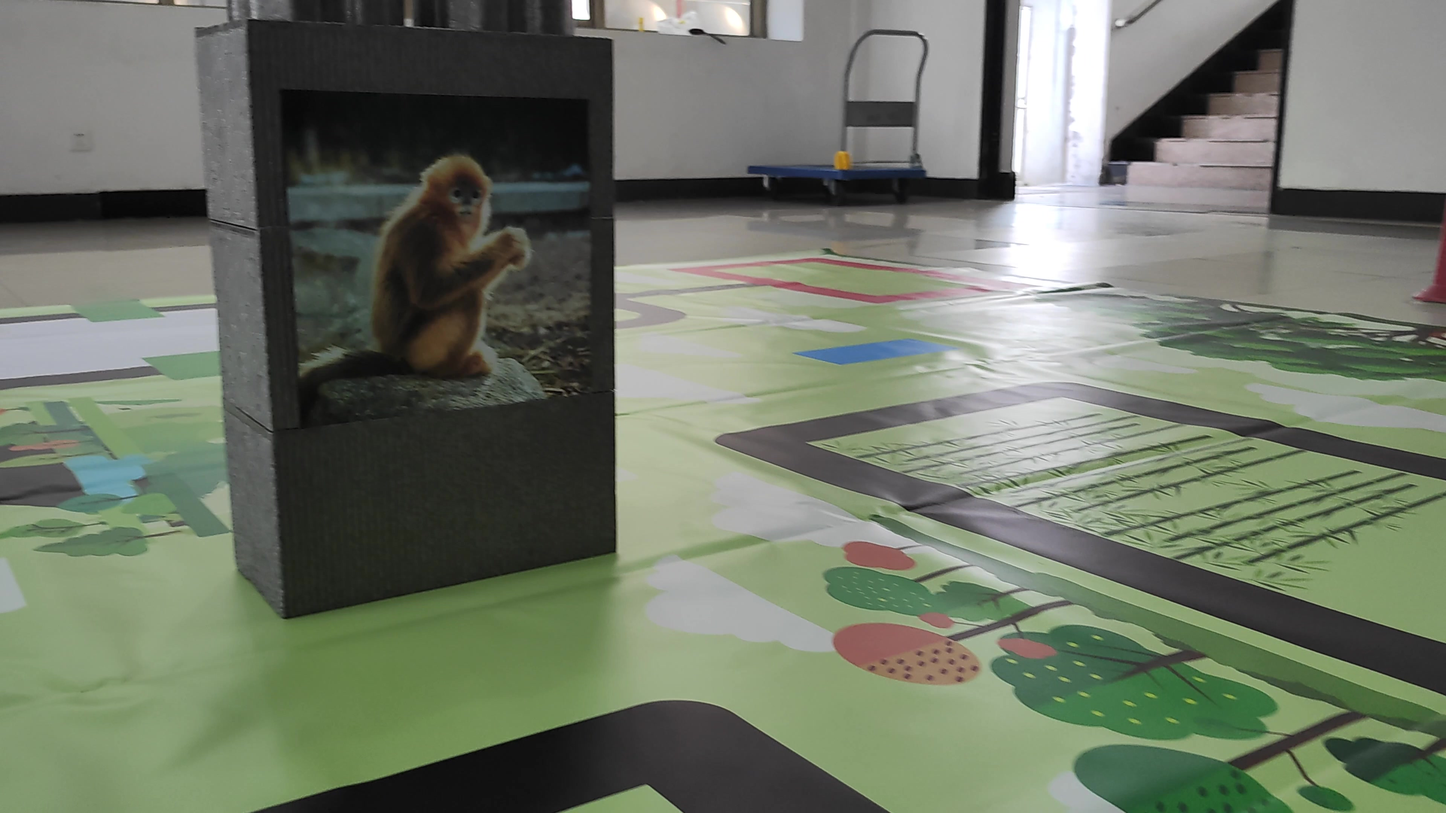monkey: (298, 145, 552, 425)
